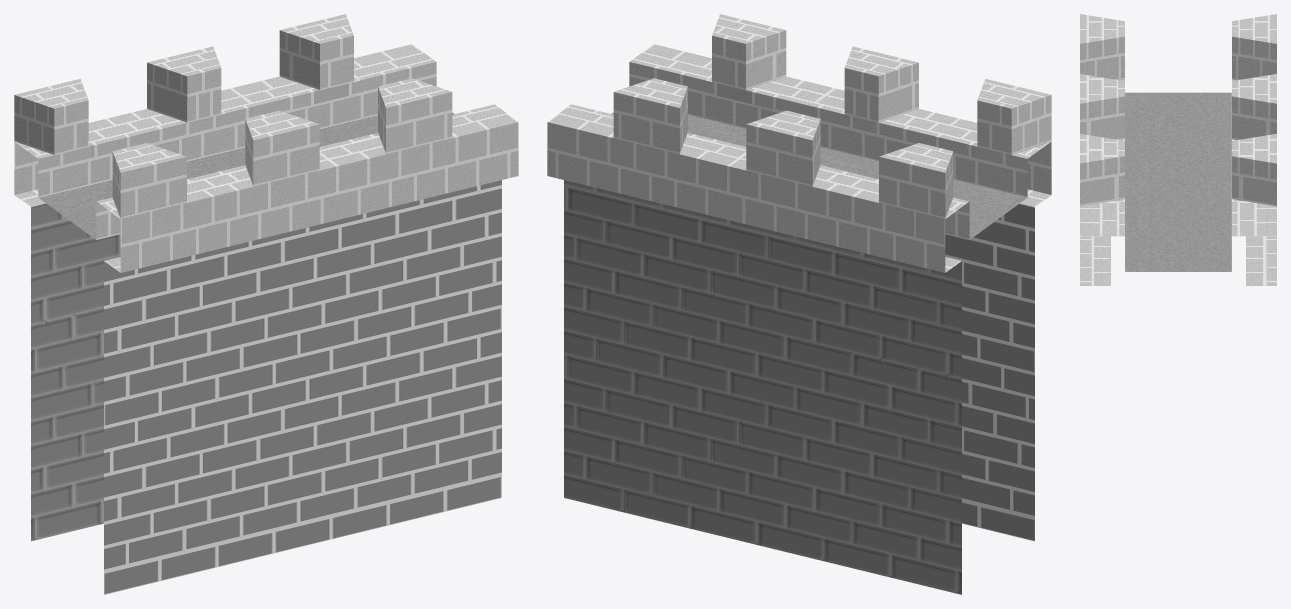
Rendered from Castle Wall Straight.fbx.
The picture shows the model from 3 angles, left to right: view 1: azimuth 30°, elevation 25°; view 2: azimuth 150°, elevation 25°; view 3: azimuth 270°, elevation 25°; orthographic projection. The views are drawn at different scales.
Parts seen in each view (by area): view 1: Castle_Wall_Straight; view 2: Castle_Wall_Straight; view 3: Castle_Wall_Straight.
Boxes of the visible parts, <box> form: Castle_Wall_Straight: <box>14,14,518,594</box>; Castle_Wall_Straight: <box>547,14,1051,594</box>; Castle_Wall_Straight: <box>1080,14,1276,285</box>.
Bounding box in the file's own units: 6.86 × 7.15 × 3.18.
